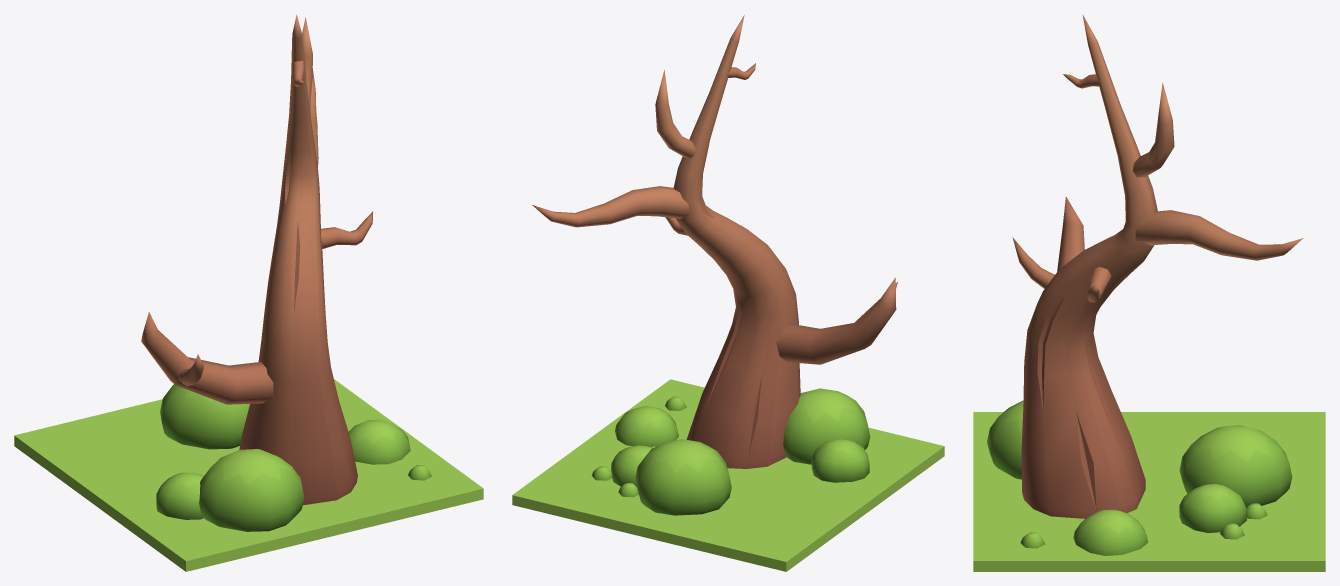
Rendered from dead_tree.glb.
3 views of the same model, side by side, from view 1: azimuth 30°, elevation 25°; view 2: azimuth 150°, elevation 25°; view 3: azimuth 270°, elevation 25° (orthographic). The views are drawn at different scales.
Parts seen in each view (by area): view 1: Dead Tree; view 2: Dead Tree; view 3: Dead Tree.
Part boxes in pixels (bbox=[...]): Dead Tree: bbox=[14, 14, 483, 571]; Dead Tree: bbox=[512, 15, 944, 571]; Dead Tree: bbox=[973, 15, 1325, 571].
Size of the model in its own units: 0.29 by 0.4748 by 0.29.
Materials: 1 (1 with a texture image).
